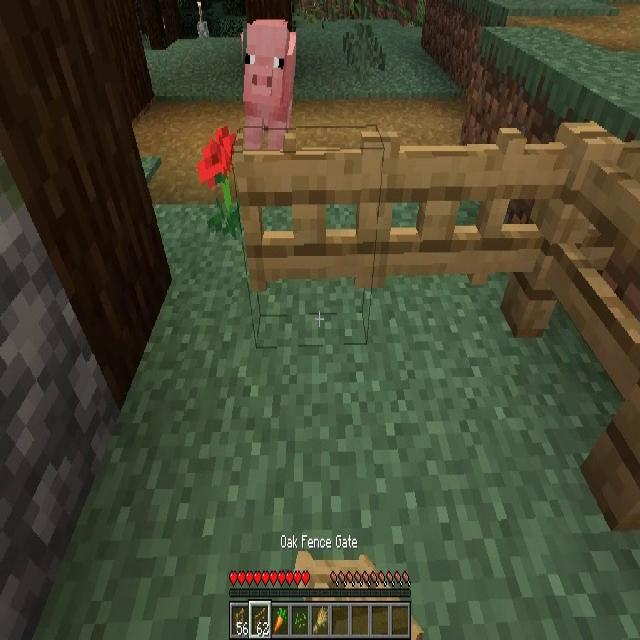pig: (243, 21, 296, 155)
